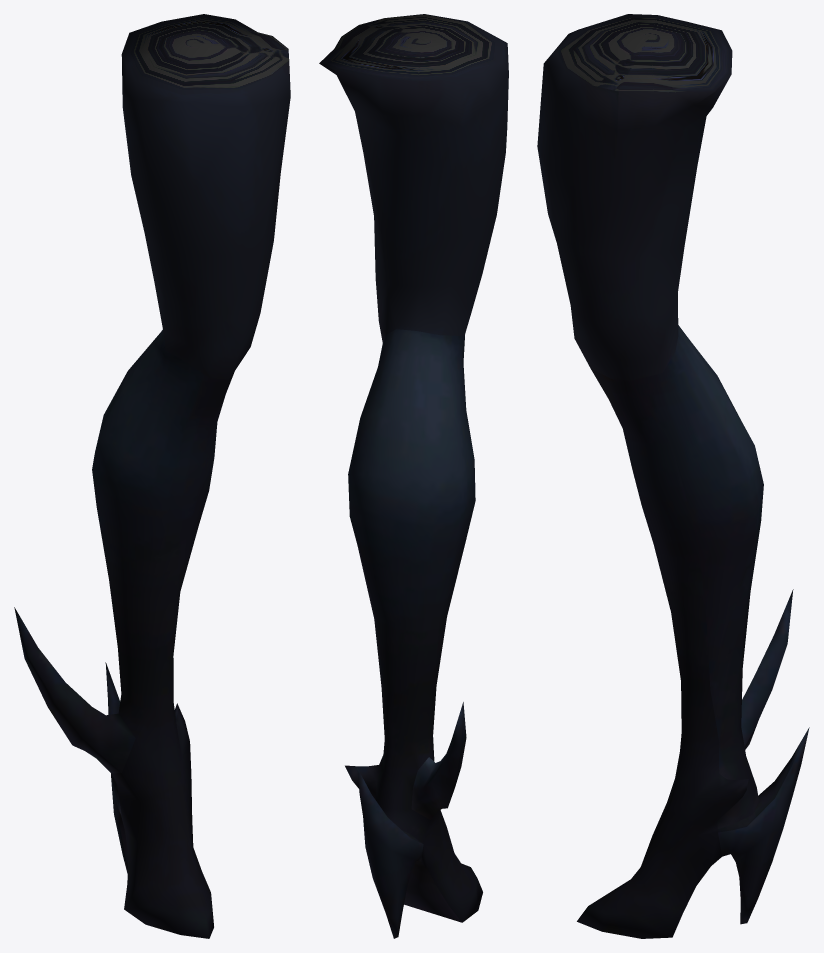
The model's file is right_leg-3_evelynn_demon_shade.blend.obj.
The picture shows the model from 3 angles, left to right: view 1: azimuth 30°, elevation 25°; view 2: azimuth 150°, elevation 25°; view 3: azimuth 270°, elevation 25°; orthographic projection. The views are drawn at different scales.
Visible parts, largest first — view 1: right_leg-3_evelynn_demon_shade.blend_Evelynn_Demon.007; view 2: right_leg-3_evelynn_demon_shade.blend_Evelynn_Demon.007; view 3: right_leg-3_evelynn_demon_shade.blend_Evelynn_Demon.007.
Boxes of the visible parts, bbox=[...] form: right_leg-3_evelynn_demon_shade.blend_Evelynn_Demon.007: bbox=[14, 14, 290, 938]; right_leg-3_evelynn_demon_shade.blend_Evelynn_Demon.007: bbox=[319, 14, 508, 938]; right_leg-3_evelynn_demon_shade.blend_Evelynn_Demon.007: bbox=[537, 14, 809, 938].
Size of the model in its own units: 0.748 by 3.25 by 0.8941.
1 material, 1 textured.
